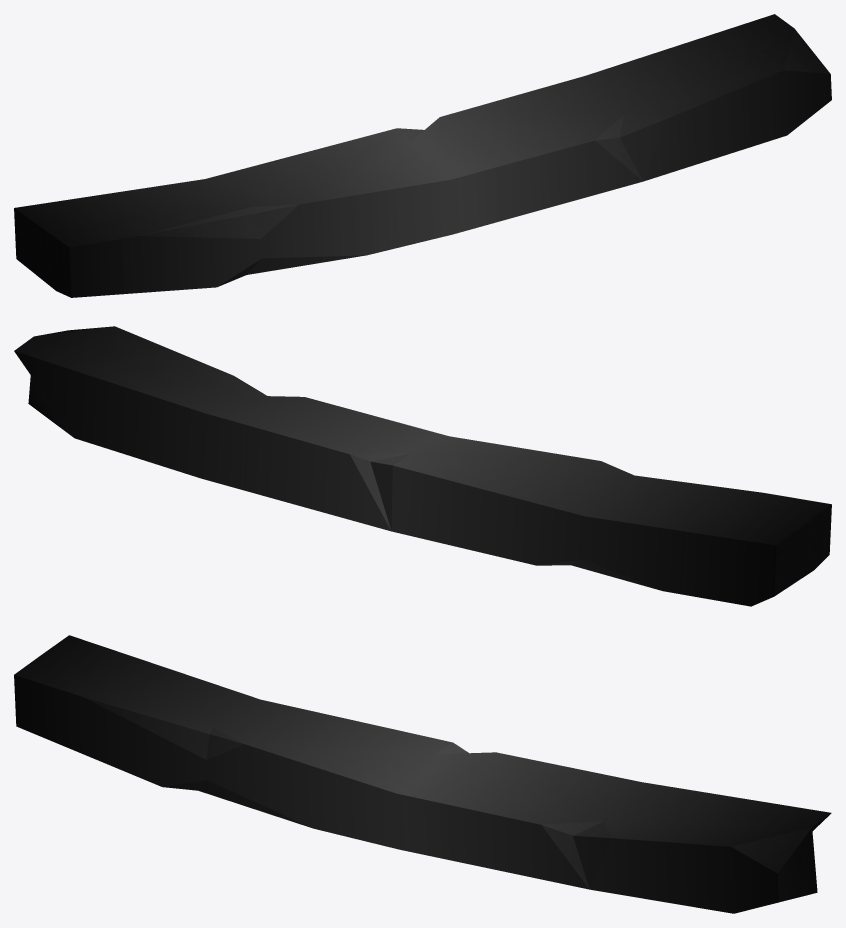
Rendered from Debrit_3.fbx.
The picture shows the model from 3 angles, top to bottom: view 1: azimuth 30°, elevation 25°; view 2: azimuth 150°, elevation 25°; view 3: azimuth 330°, elevation 25°; orthographic projection.
Visible parts, largest first — view 1: Debrit_3; view 2: Debrit_3; view 3: Debrit_3.
Part boxes in pixels (<box>): Debrit_3: <box>14,14,831,297</box>; Debrit_3: <box>14,326,831,606</box>; Debrit_3: <box>14,635,831,913</box>.
Bounding box in the file's own units: 251 × 27.7 × 31.38.
Materials: 1 (1 with a texture image).
